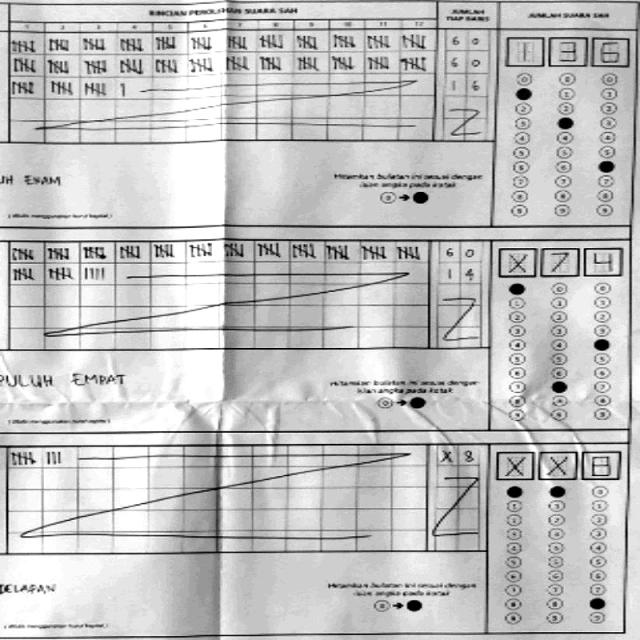Suara: (500, 31, 634, 70), (492, 240, 626, 279), (492, 444, 626, 483)
